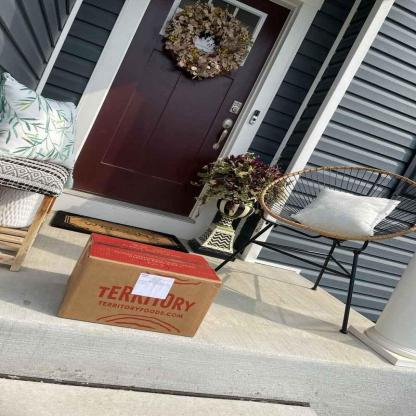label: (134, 272, 175, 300)
package: (59, 230, 222, 340)
